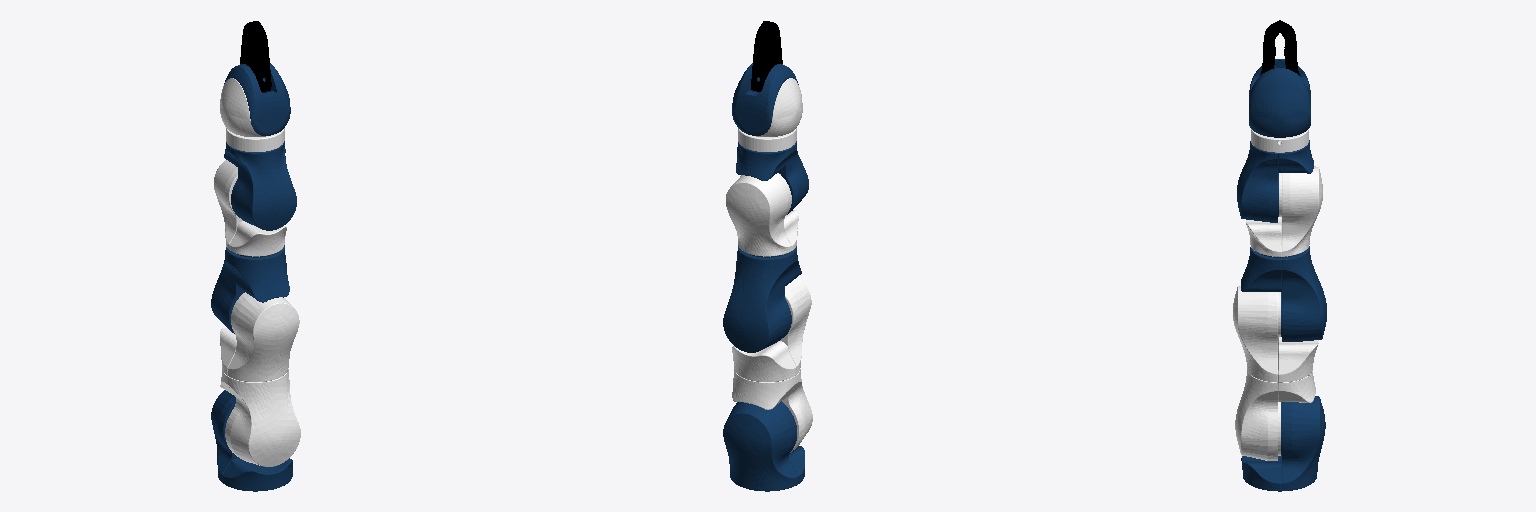
The robot description file, URDF, robot "lio":
<?xml version="1.0" ?>
<!-- =================================================================================== -->
<!-- |    This document was autogenerated by xacro from src/lio-developments/fp_messages/fp_descriptions/lio_description/urdf/LIO.urdf.xacro | -->
<!-- |    EDITING THIS FILE BY HAND IS NOT RECOMMENDED                                 | -->
<!-- =================================================================================== -->
<robot name="lio">
  <material name="blue">
    <color rgba="0.12549019607843137 0.2784313725490196 0.43529411764705883 1"/>
  </material>
  <material name="black">
    <color rgba="0 0 0 1"/>
  </material>
  <material name="white">
    <color rgba="1 1 1 1"/>
  </material>



  <link name="base_footprint">
  
  </link>

  <joint name="lio_joint1" type="revolute">
    <origin rpy="0 0 0" xyz="0 0 0.212"/>
    <!-- <origin xyz="0 0 0.212" rpy="0 0 0" /> -->
    <parent link="base_footprint"/>
    <child link="lio_link12"/>
    <limit effort="150" lower="-2.9670597283903604" upper="2.9670597283903604" velocity="1.658062789394613"/>
    <axis xyz="0 0 1"/>
    <dynamics damping="5.0" friction="5.0"/>
  </joint>
  <!-- <transmission name="${name}_joint1_trans">
      <type>transmission_interface/SimpleTransmission</type>
      <actuator name="${name}_joint1_motor">
      <hardwareInterface>hardware_interface/PositionJointInterface</hardwareInterface>
        <mechanicalReduction>1</mechanicalReduction>
      </actuator>
      <joint name="${name}_joint1">
        <hardwareInterface>hardware_interface/PositionJointInterface</hardwareInterface>
      </joint>
  </transmission> -->
  <link name="lio_link12">
    <inertial>
      <origin rpy="0 0 0" xyz="8.71294630254049E-05 0.0 -0.00113740271757783"/>
      <mass value="3.652"/>
      <inertia ixx="0.06656" ixy="1e-05" ixz="1e-05" iyy="0.0661" iyz="0.00952" izz="0.0076"/>
    </inertial>
    <visual>
      <geometry>
        <mesh filename="package://p_arm_description/meshes/p_rob_2R/link12.STL"/>
      </geometry>
      <material name="blue"/>
    </visual>
    <collision>
      <geometry>
        <mesh filename="package://p_arm_description/meshes/p_rob_2R/link12.STL"/>
      </geometry>
    </collision>
  </link>

  <joint name="lio_joint2" type="revolute">
    <origin xyz="0 0 0.1505"/>
    <parent link="lio_link12"/>
    <child link="lio_link23"/>
    <limit effort="150" lower="-1.9198621771937625" upper="1.9198621771937625" velocity="1.658062789394613"/>
    <axis xyz="0 1 0"/>
    <dynamics damping="10.0" friction="5.0"/>
  </joint>
  <link name="lio_link23">
    <inertial>
      <origin xyz="8.71294630254052E-05 0.000951295697065868 -0.00113740271757783"/>
      <mass value="3.52"/>
      <inertia ixx="0.18406" ixy="2e-05" ixz="-8e-05" iyy="0.18142" iyz="0.01932" izz="0.00841"/>
    </inertial>
    <visual>
      <geometry>
        <mesh filename="package://p_arm_description/meshes/p_rob_2R/link23.STL"/>
      </geometry>
      <material name="white"/>
    </visual>
    <collision>
      <geometry>
        <mesh filename="package://p_arm_description/meshes/p_rob_2R/link23.STL"/>
      </geometry>
    </collision>
  </link>

  <joint name="lio_joint3" type="revolute">
    <origin xyz="0 0 0.29"/>
    <parent link="lio_link23"/>
    <child link="lio_link34"/>
    <limit effort="150" lower="-2.007128639793479" upper="2.007128639793479" velocity="1.658062789394613"/>
    <axis xyz="0 1 0"/>
    <dynamics damping="5.0" friction="5.0"/>
  </joint>
  <link name="lio_link34">
    <inertial>
      <origin rpy="0 0 0" xyz="8.71294630254052E-05 0.0 -0.00113740271757783"/>
      <mass value="1.626"/>
      <inertia ixx="0.02372" ixy="-2e-05" ixz="4e-05" iyy="0.02243" iyz="0.00024" izz="0.0343"/>
    </inertial>
    <visual>
      <geometry>
        <mesh filename="package://p_arm_description/meshes/p_rob_2R/link34.STL"/>
      </geometry>
      <material name="blue"/>
    </visual>
    <collision>
      <geometry>
        <mesh filename="package://p_arm_description/meshes/p_rob_2R/link34.STL"/>
      </geometry>
    </collision>
  </link>

  <joint name="lio_joint4" type="revolute">
    <origin xyz="0 0 0.1645"/>
    <parent link="lio_link34"/>
    <child link="lio_link45"/>
    <limit effort="55" lower="-2.9670597283903604" upper="2.9670597283903604" velocity="1.658062789394613"/>
    <axis xyz="0 0 1"/>
    <dynamics damping="5.0" friction="5.0"/>
  </joint>
  <link name="lio_link45">
    <inertial>
      <origin rpy="0 0 0" xyz="8.71294630254052E-05 0.0 -0.00113740271757783"/>
      <mass value="1.516"/>
      <inertia ixx="0.02488" ixy="2e-05" ixz="3e-05" iyy="0.02409" iyz="0.00398" izz="0.00272"/>
    </inertial>
    <visual>
      <geometry>
        <mesh filename="package://p_arm_description/meshes/p_rob_2R/link45.STL"/>
      </geometry>
      <material name="white"/>
    </visual>
    <collision>
      <geometry>
        <mesh filename="package://p_arm_description/meshes/p_rob_2R/link45.STL"/>
      </geometry>
    </collision>
  </link>

  <joint name="lio_joint5" type="revolute">
    <origin xyz="0 0 0.1455"/>
    <parent link="lio_link45"/>
    <child link="lio_link56"/>
    <limit effort="55" lower="-2.007128639793479" upper="2.007128639793479" velocity="1.658062789394613"/>
    <axis xyz="0 1 0"/>
    <dynamics damping="5.0" friction="5.0"/>
  </joint>
  <link name="lio_link56">
    <inertial>
      <origin xyz="-8.71294630254049E-05 0.0 0.00113740271757783"/>
      <mass value="1.417"/>
      <inertia ixx="0.01351" ixy="-2e-05" ixz="-3e-05" iyy="0.01261" iyz="-0.00012" izz="0.00274"/>
    </inertial>
    <visual>
      <geometry>
        <mesh filename="package://p_arm_description/meshes/p_rob_2R/link56.STL"/>
      </geometry>
      <material name="blue"/>
    </visual>
    <collision>
      <geometry>
        <mesh filename="package://p_arm_description/meshes/p_rob_2R/link56.STL"/>
      </geometry>
    </collision>
  </link>

  <joint name="lio_joint6" type="revolute">
    <origin xyz="0 0 0.129"/>
    <parent link="lio_link56"/>
    <child link="lio_link6G"/>
    <limit effort="30" lower="-2.9670597283903604" upper="2.9670597283903604" velocity="1.658062789394613"/>
    <axis xyz="0 0 1"/>
    <dynamics damping="5.0" friction="5.0"/>
  </joint>
  <link name="lio_link6G">
    <inertial>
      <origin xyz="-0.00113740271757783 0.0 8.7129463025477E-05"/>
      <mass value="0.435"/>
      <inertia ixx="0.00079" ixy="0.0" ixz="0.0" iyy="0.00086" iyz="-1e-05" izz="0.00084"/>
    </inertial>
    <visual>
      <geometry>
        <mesh filename="package://p_arm_description/meshes/p_rob_2R/link6G.STL"/>
      </geometry>
      <material name="white"/>
    </visual>
    <collision>
      <geometry>
        <mesh filename="package://p_arm_description/meshes/p_rob_2R/link6G.STL"/>
      </geometry>
    </collision>
  </link>

  <joint name="lio_gripper_interface_joint" type="fixed">
    <origin xyz="0 0 0.046"/>
    <parent link="lio_link6G"/>
    <child link="lio_gripper_interface_link"/>
  </joint>
  <link name="lio_gripper_interface_link">
    <inertial>
      <!-- the inertia values are guessed-->
      <origin xyz="0 0 0"/>
      <mass value="0.1"/>
      <inertia ixx="0.0001" ixy="0.9" ixz="0.0" iyy="0.0001" iyz="0.0" izz="0.0001"/>
    </inertial>
  </link>

  <joint name="lio_back_cover_joint" type="fixed">
    <parent link="lio_gripper_interface_link"/>
    <child link="lio_back_cover"/>
  </joint>
  <link name="lio_back_cover">
    <inertial>
      <origin xyz="2.24196111270369E-06 -0.00408460946644196 -0.0510660065280277"/>
      <mass value="0.82454352978473"/>
      <inertia ixx="0.00151927417232363" ixy="-3.02654547820246E-07" ixz="-4.4543064624827E-08" iyy="0.00163894166884312" iyz="-2.0883019834409E-05" izz="0.00153211830480003"/>
    </inertial>
    <visual>
      <geometry>
        <mesh filename="package://p_grip_description/meshes/p_grip_2F/back_cover.STL"/>
      </geometry>
      <material name="white"/>
    </visual>
    <collision>
      <geometry>
        <mesh filename="package://p_grip_description/meshes/p_grip_2F/back_cover.STL"/>
      </geometry>
    </collision>
  </link>
  <!-- Main body of the gripper. -->
  <joint name="lio_p_grip_connector" type="fixed">
    <!-- <origin rpy="0 -1.57 3.14" xyz="-0.052 0 0.052"/> -->
    <origin rpy="0 -1.57 3.14" xyz="0 0 0.052"/> 
    <parent link="lio_gripper_interface_link"/>
    <child link="lio_gripper_link"/>
  </joint>
  <link name="lio_gripper_link">
    <inertial>
      <origin xyz="2.24196111270369E-06 -0.00408460946644196 -0.0510660065280277"/>
      <!-- <origin xyz="0 0 0"/> -->
      <mass value="0.82454352978473"/>
      <inertia ixx="0.00151927417232363" ixy="-3.02654547820246E-07" ixz="-4.4543064624827E-08" iyy="0.00163894166884312" iyz="-2.0883019834409E-05" izz="0.00153211830480003"/>
    </inertial>
    <visual>
      <geometry>
        <mesh filename="package://p_grip_description/meshes/p_grip_2F/p_grip.STL"/>
      </geometry>
      <origin xyz="0 0 -0.052"/>
      <material name="blue"/>
    </visual>
    <collision>
      <geometry>
        <mesh filename="package://p_grip_description/meshes/p_grip_2F/p_grip.STL"/>
      </geometry>
    </collision>
  </link>
  <!-- The left finger can be actuated via ROS. -->
  <joint name="lio_gripper_joint" type="revolute">
    <!-- <origin rpy="0 0 0" xyz="0.0645 0 0.052"/> -->
    <origin rpy="0 0 0" xyz="-0.1245 0 0"/>
    <parent link="lio_tcp_link"/>
    <child link="lio_left_finger"/>
    <limit effort="50" lower="0.0" upper="0.5235987755982988" velocity="1.0471975511965976"/>
    <axis xyz="0 0 1"/>
  </joint>
  <link name="lio_left_finger">
    <inertial>
      <!-- the inertia values are guessed-->
      <origin xyz="0 0 0"/>
      <mass value="0.1"/>
      <inertia ixx="0.0001" ixy="0.9" ixz="0.0" iyy="0.0001" iyz="0.0" izz="0.0001"/>
    </inertial>
    <visual>
      <origin rpy="0 0 0"/>
      <geometry>
        <mesh filename="package://p_grip_description/meshes/p_grip_2F/finger.STL"/>
      </geometry>
      <material name="black"/>
    </visual>
    <collision>
      <origin rpy="0 0 0"/>
      <geometry>
        <mesh filename="package://p_grip_description/meshes/p_grip_2F/finger.STL"/>
      </geometry>
    </collision>
  </link>
  <!-- The right finger simply mirrors the left one. -->
  <joint name="lio_passive_gripper_joint" type="revolute">
    <mimic joint="lio_gripper_joint" multiplier="-1" offset="0"/>
    <!-- <origin rpy="0 0 0" xyz="0.0645 0 0.052"/> -->
    <origin rpy="0 0 0" xyz="-0.1245 0 0"/>
    <parent link="lio_tcp_link"/>
    <child link="lio_right_finger"/>
    <limit effort="1000.0" lower="-0.5235987755982988" upper="0.0" velocity="170"/>
    <axis xyz="0 0 1"/>
  </joint>
  <link name="lio_right_finger">
    <inertial>
      <!-- the inertia values are guessed-->
      <origin xyz="0 0 0"/>
      <mass value="0.1"/>
      <inertia ixx="0.0001" ixy="0.9" ixz="0.0" iyy="0.0001" iyz="0.0" izz="0.0001"/>
    </inertial>
    <visual>
      <origin rpy="3.141592653589793 0 0"/>
      <geometry>
        <mesh filename="package://p_grip_description/meshes/p_grip_2F/finger.STL"/>
      </geometry>
      <material name="black"/>
    </visual>
    <collision>
      <origin rpy="3.141592653589793 0 0"/>
      <geometry>
        <mesh filename="package://p_grip_description/meshes/p_grip_2F/finger.STL"/>
      </geometry>
    </collision>
  </link>
  <!-- The tool center point is used for kinematics and path planning. -->
  <joint name="lio_tcp_joint" type="fixed">
    <!-- <origin rpy="0 0 0" xyz="0.189 0 0.052"/> -->
    <origin rpy="0 0 0" xyz="0.189 0 0"/>
    <parent link="lio_gripper_link"/>
    <child link="lio_tcp_link"/>
  </joint>
  <link name="lio_tcp_link">
    <inertial>
      <!-- the inertia values are guessed-->
      <origin xyz="0 0 0"/>
      <mass value="0.1"/>
      <inertia ixx="0.0001" ixy="0.9" ixz="0.0" iyy="0.0001" iyz="0.0" izz="0.0001"/>
    </inertial>
  </link>


  <joint name="lio_tis_cam_joint" type="fixed">
    <!-- <origin rpy="-1.5707963267948966 0.0 -1.5707963267948966" xyz="-0.095 0.0 0.053"/> -->
    <origin rpy="-1.5707963267948966 0.0 -1.5707963267948966" xyz="-0.095 0.0 0"/>
    <parent link="lio_tcp_link"/>
    <child link="tis_cam"/>
  </joint>
  <link name="tis_cam">
    <inertial>
      <!-- the inertia values are guessed but needed for gazebo -->
      <origin xyz="0 0 0"/>
      <mass value="0.001"/>
      <inertia ixx="0.0001" ixy="0.9" ixz="0.0" iyy="0.0001" iyz="0.0" izz="0.0001"/>
    </inertial>
  </link>
  <!-- we need this joint and link for the camera plugin in gazebo the x is taken for camera direction -->
  <joint name="lio_tis_cam_sim_plugin_joint" type="fixed">
    <origin rpy="0 -1.5707963267948966 0" xyz="0.0 0.0 0.0"/>
    <parent link="tis_cam"/>
    <child link="tis_cam_sim_plugin"/>
  </joint>
  <link name="tis_cam_sim_plugin">
    <inertial>
      <!-- the inertia values are guessed but needed for gazebo -->
      <origin xyz="0 0 0"/>
      <mass value="0.001"/>
      <inertia ixx="0.0001" ixy="0.9" ixz="0.0" iyy="0.0001" iyz="0.0" izz="0.0001"/>
    </inertial>
  </link>
</robot>

--- What the picture shows (computed from the rendered views, not written in the file) ---
The picture shows the robot from 3 angles, left to right: view 1: azimuth 30°, elevation 25°; view 2: azimuth 150°, elevation 25°; view 3: azimuth 270°, elevation 25°; orthographic projection.
Robot: lio — 15 links, 14 joints (8 revolute, 6 fixed); root link base_footprint; default pose: all joints at 0.
Links seen in each view (by area): view 1: lio_link23, lio_link56, lio_link34, lio_link12, lio_link45, lio_gripper_link, lio_back_cover, lio_left_finger, lio_link6G; view 2: lio_link12, lio_link23, lio_link34, lio_link45, lio_gripper_link, lio_link56, lio_back_cover, lio_right_finger, lio_link6G; view 3: lio_link23, lio_link34, lio_link12, lio_link45, lio_gripper_link, lio_link56, lio_link6G, lio_right_finger, lio_left_finger.
Link boxes in pixels (x1=…): lio_link23: x1=220, y1=292, x2=300, y2=466; lio_link56: x1=224, y1=141, x2=296, y2=230; lio_link34: x1=211, y1=245, x2=289, y2=333; lio_link12: x1=211, y1=390, x2=292, y2=491; lio_link45: x1=214, y1=160, x2=286, y2=256; lio_gripper_link: x1=224, y1=63, x2=290, y2=135; lio_back_cover: x1=220, y1=78, x2=265, y2=136; lio_left_finger: x1=251, y1=21, x2=271, y2=91; lio_link6G: x1=226, y1=128, x2=284, y2=151; lio_link12: x1=723, y1=401, x2=804, y2=491; lio_link23: x1=732, y1=277, x2=812, y2=452; lio_link34: x1=723, y1=246, x2=801, y2=352; lio_link45: x1=726, y1=173, x2=798, y2=256; lio_gripper_link: x1=732, y1=63, x2=798, y2=135; lio_link56: x1=736, y1=141, x2=808, y2=214; lio_back_cover: x1=756, y1=78, x2=802, y2=136; lio_right_finger: x1=751, y1=21, x2=770, y2=91; lio_link6G: x1=738, y1=128, x2=796, y2=151; lio_link23: x1=1233, y1=286, x2=1318, y2=460; lio_link34: x1=1241, y1=246, x2=1326, y2=341; lio_link12: x1=1241, y1=396, x2=1325, y2=491; lio_link45: x1=1246, y1=166, x2=1322, y2=256; lio_gripper_link: x1=1249, y1=59, x2=1310, y2=137; lio_link56: x1=1237, y1=140, x2=1313, y2=222; lio_link6G: x1=1251, y1=129, x2=1308, y2=152; lio_right_finger: x1=1280, y1=20, x2=1299, y2=75; lio_left_finger: x1=1260, y1=20, x2=1279, y2=75.
Size in the robot's own frame: 0.175 by 0.2219 by 1.18 metres.
Meshes: 9 distinct files referenced, 10 mesh visuals loaded (9 binary STL).
